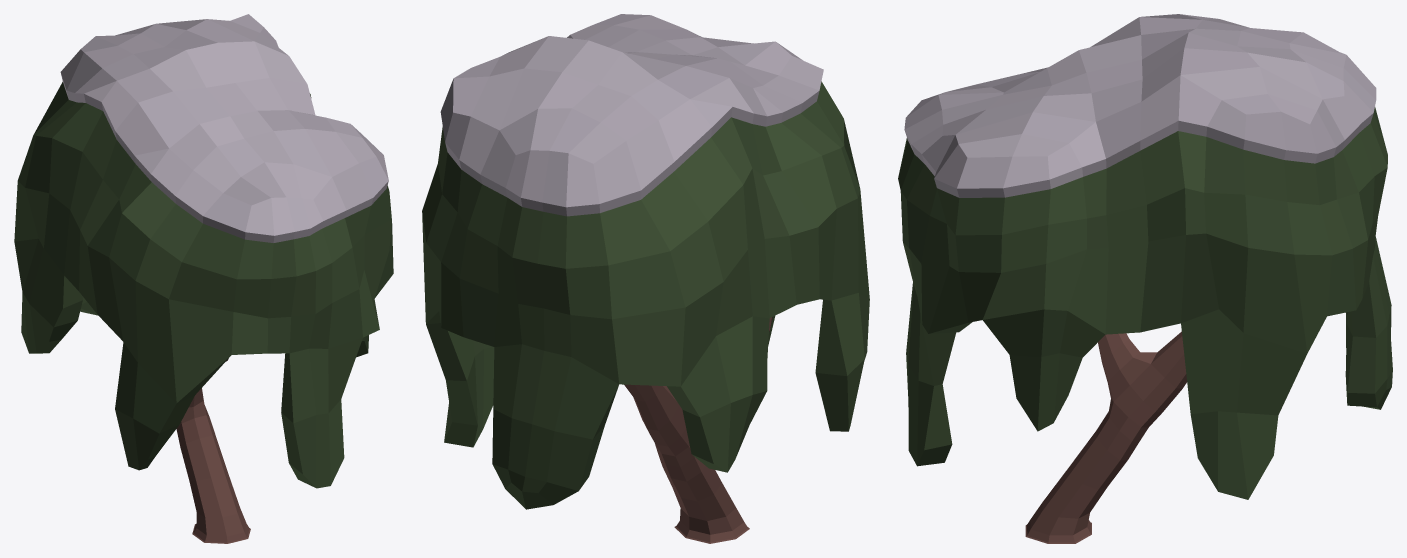
3 renders of one model, left to right at view 1: azimuth 30°, elevation 25°; view 2: azimuth 150°, elevation 25°; view 3: azimuth 270°, elevation 25°, orthographic. The views are drawn at different scales.
Visible parts, largest first — view 1: Willow_Snow_4; view 2: Willow_Snow_4; view 3: Willow_Snow_4.
Boxes of the visible parts, x1,y1,x2,y2 form: Willow_Snow_4: [14, 14, 393, 543]; Willow_Snow_4: [422, 14, 869, 543]; Willow_Snow_4: [898, 14, 1392, 543].
Size of the model in its own units: 2.19 by 3.46 by 3.04.
